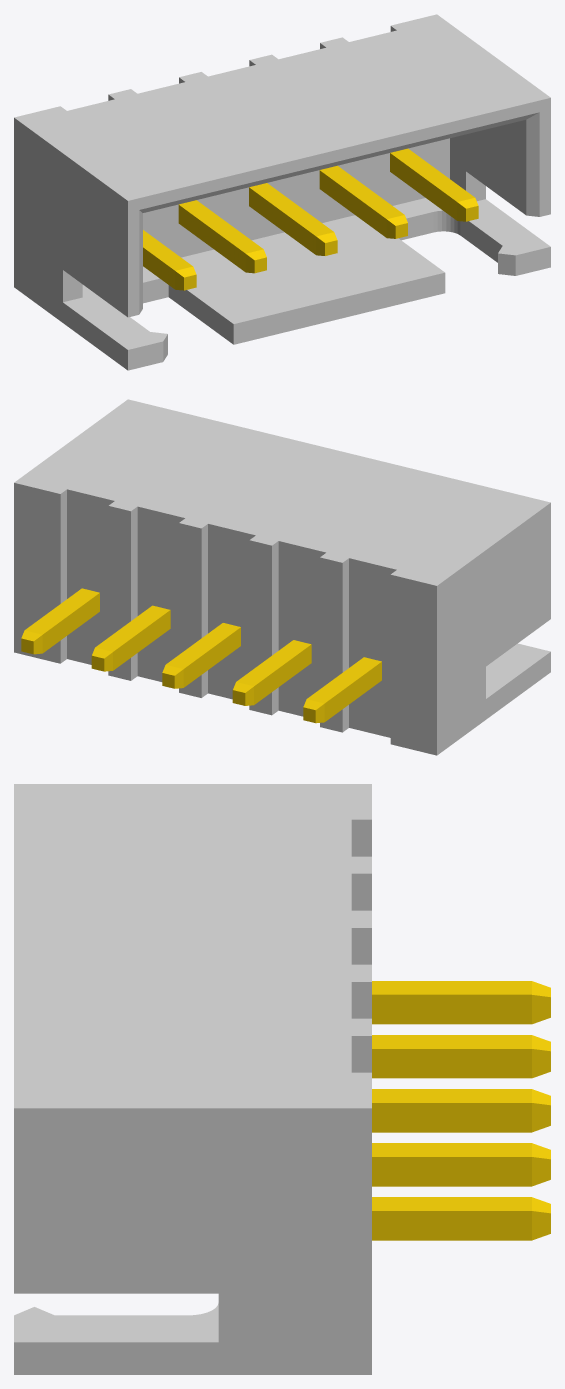
File: DS1069-5 CWF-5.obj
3 views of the same model, one above another, from view 1: azimuth 30°, elevation 25°; view 2: azimuth 150°, elevation 25°; view 3: azimuth 270°, elevation 25° (orthographic). The views are drawn at different scales.
Parts seen in each view (by area): view 1: DS1069-5_CWF-5; view 2: DS1069-5_CWF-5; view 3: DS1069-5_CWF-5.
Boxes of the visible parts, x1,y1,x2,y2 form: DS1069-5_CWF-5: (14, 14, 550, 370); DS1069-5_CWF-5: (14, 399, 550, 755); DS1069-5_CWF-5: (14, 784, 550, 1374).
Size of the model in its own units: 0.0274 by 0.0105 by 0.0192.
